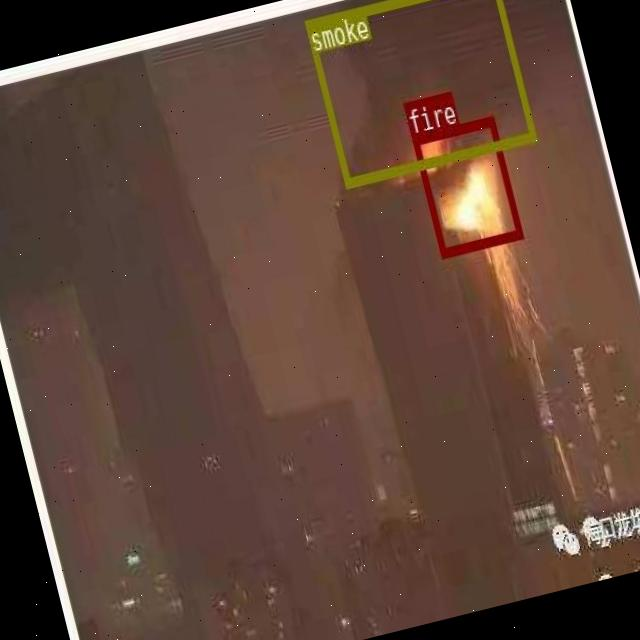fire: (411, 114, 522, 256)
smoke: (302, 0, 535, 186)
